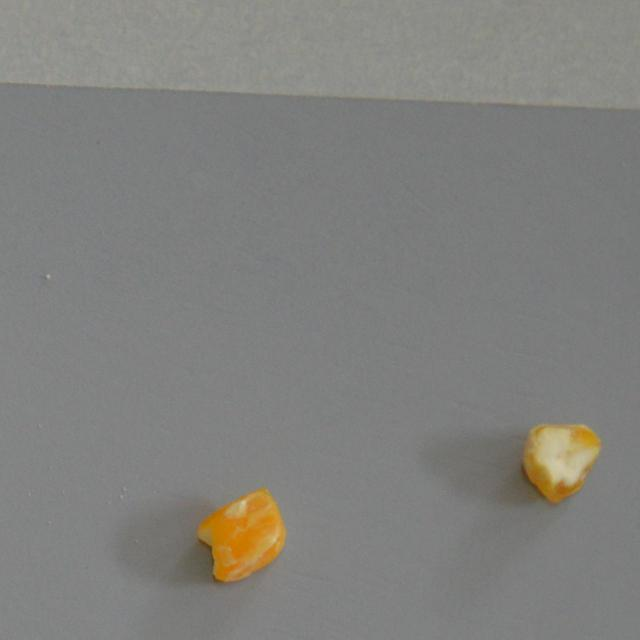pelicula: (195, 486, 290, 586), (519, 420, 601, 504)
